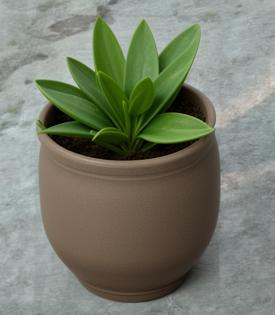pottedplant: (35, 15, 219, 302)
